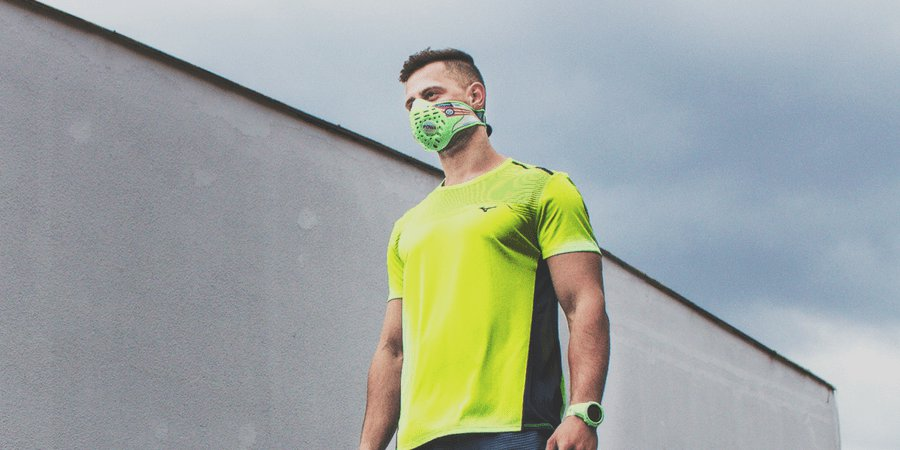mask: (390, 51, 502, 166)
